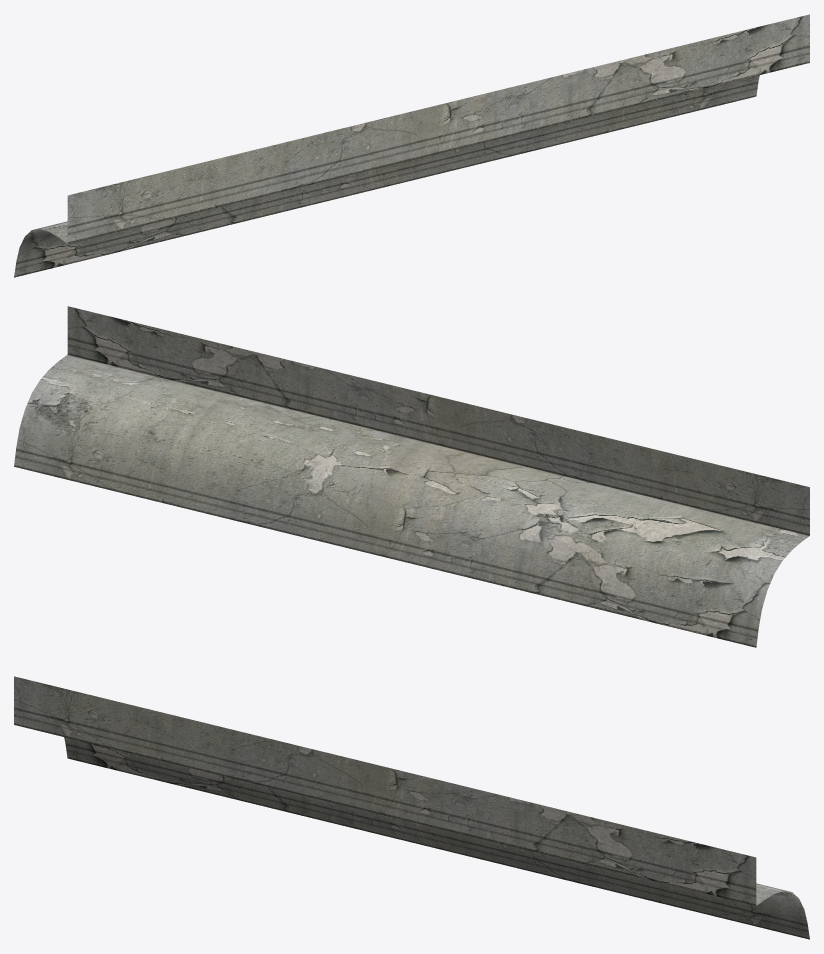
The model's file is urban_damaged_deco_default_double_ceiling.dae.
The picture shows the model from 3 angles, top to bottom: view 1: azimuth 30°, elevation 25°; view 2: azimuth 150°, elevation 25°; view 3: azimuth 330°, elevation 25°; orthographic projection.
Visible parts, largest first — view 1: polySurface709; view 2: polySurface709; view 3: polySurface709.
Boxes of the visible parts, x1=… form: polySurface709: x1=14, y1=14, x2=809, y2=277; polySurface709: x1=14, y1=306, x2=809, y2=647; polySurface709: x1=14, y1=676, x2=809, y2=939.
Size of the model in its own units: 8 by 1.25 by 1.
